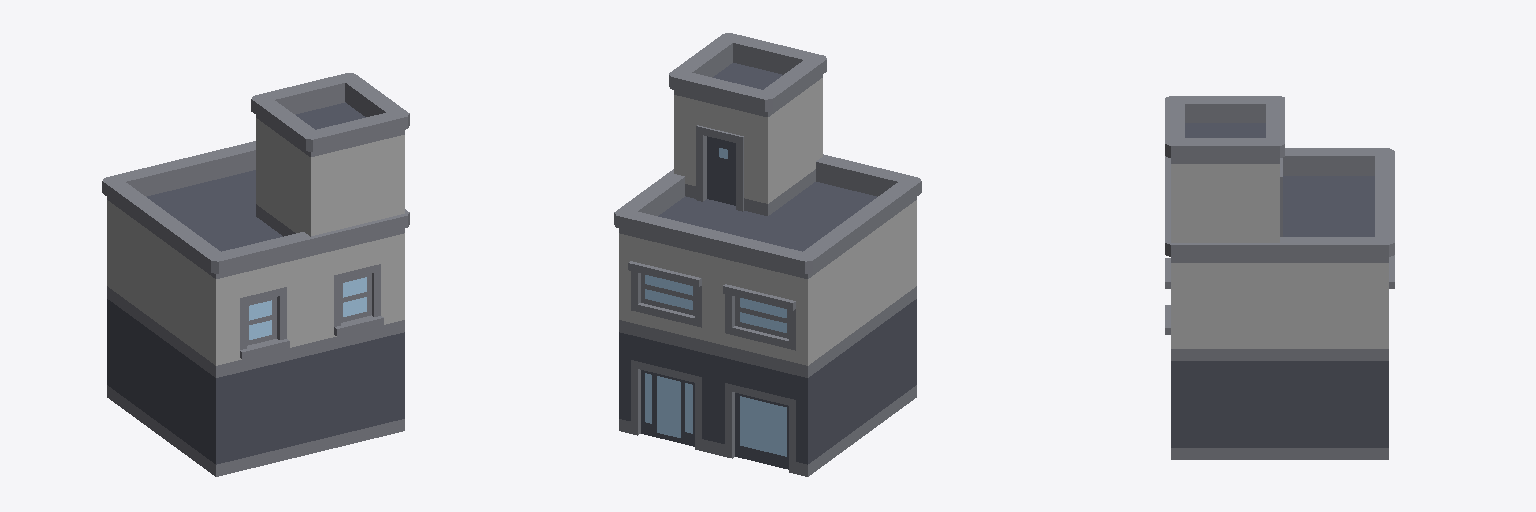
Rendered from city_shop_f.obj.
3 views of the same model, side by side, from view 1: azimuth 30°, elevation 25°; view 2: azimuth 150°, elevation 25°; view 3: azimuth 270°, elevation 25° (orthographic).
Visible parts, largest first — view 1: mergedBlocks; view 2: mergedBlocks; view 3: mergedBlocks.
Boxes of the visible parts, x1=… form: mergedBlocks: x1=102, y1=73, x2=409, y2=476; mergedBlocks: x1=614, y1=33, x2=921, y2=476; mergedBlocks: x1=1165, y1=96, x2=1394, y2=459.
Bounding box in the file's own units: 0.5376 × 0.8192 × 0.5376.